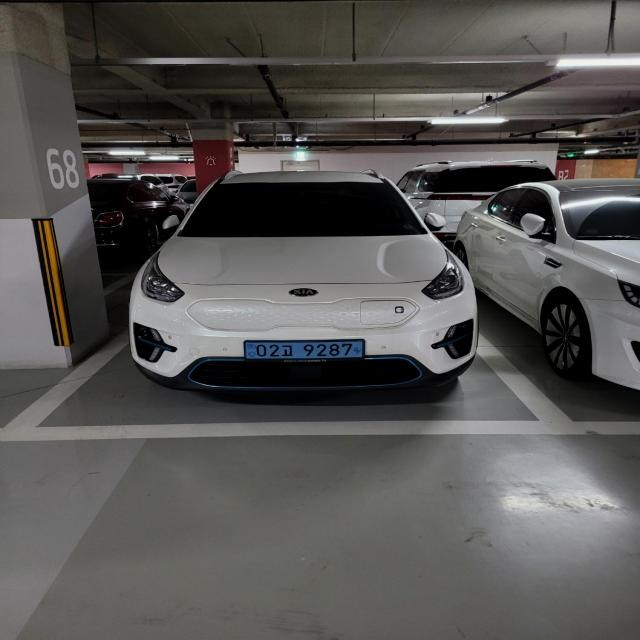EV_plate: (238, 337, 370, 370)
car: (128, 172, 483, 402)
